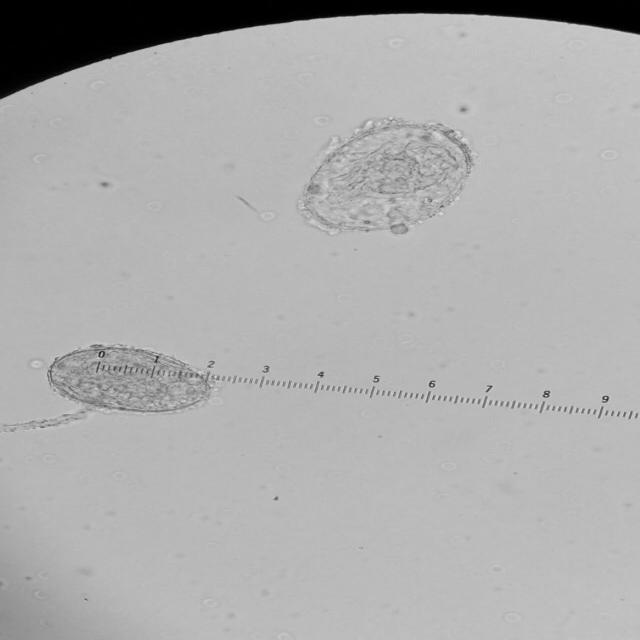Schistosoma: (291, 115, 482, 237), (37, 344, 220, 418)
